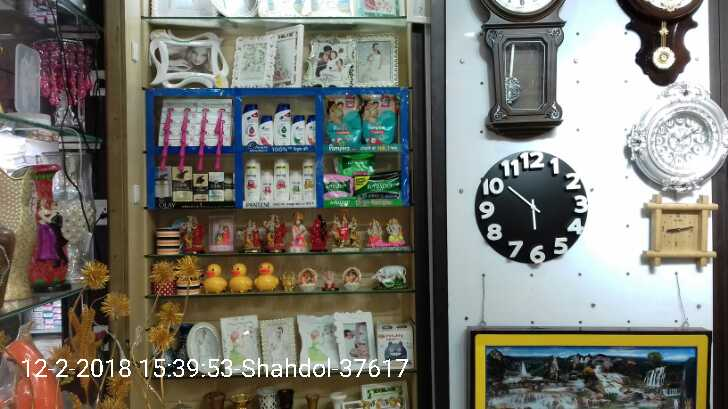venus: (158, 100, 231, 174)
